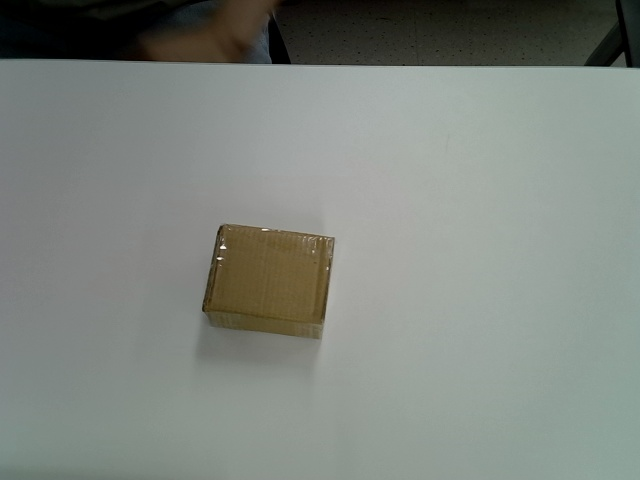normal: (201, 222, 337, 338)
